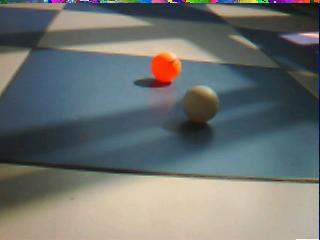oball: (151, 53, 182, 84)
